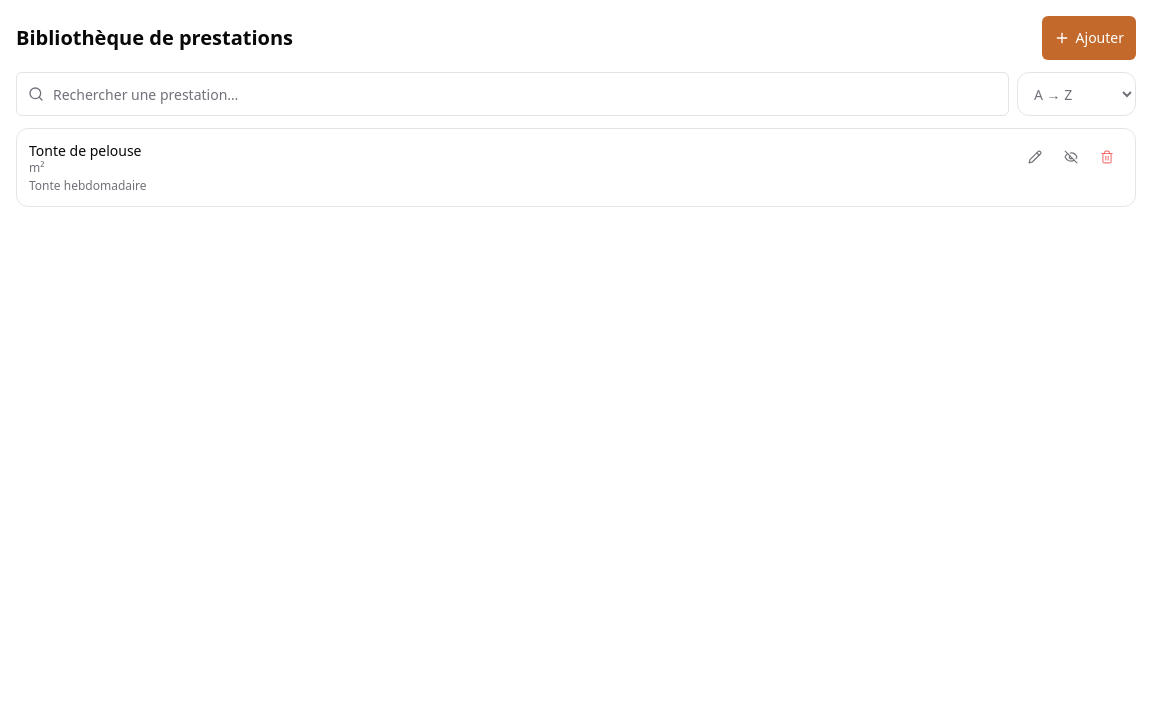
Test: ServicesPage — modal de modification › cliquer Modifier ouvre le formulaire avec les données de la prestation
This screenshot has width=1152, height=720.
Click the button named "Modifier": coordinates (1035, 157) [1019, 141, 1051, 173]
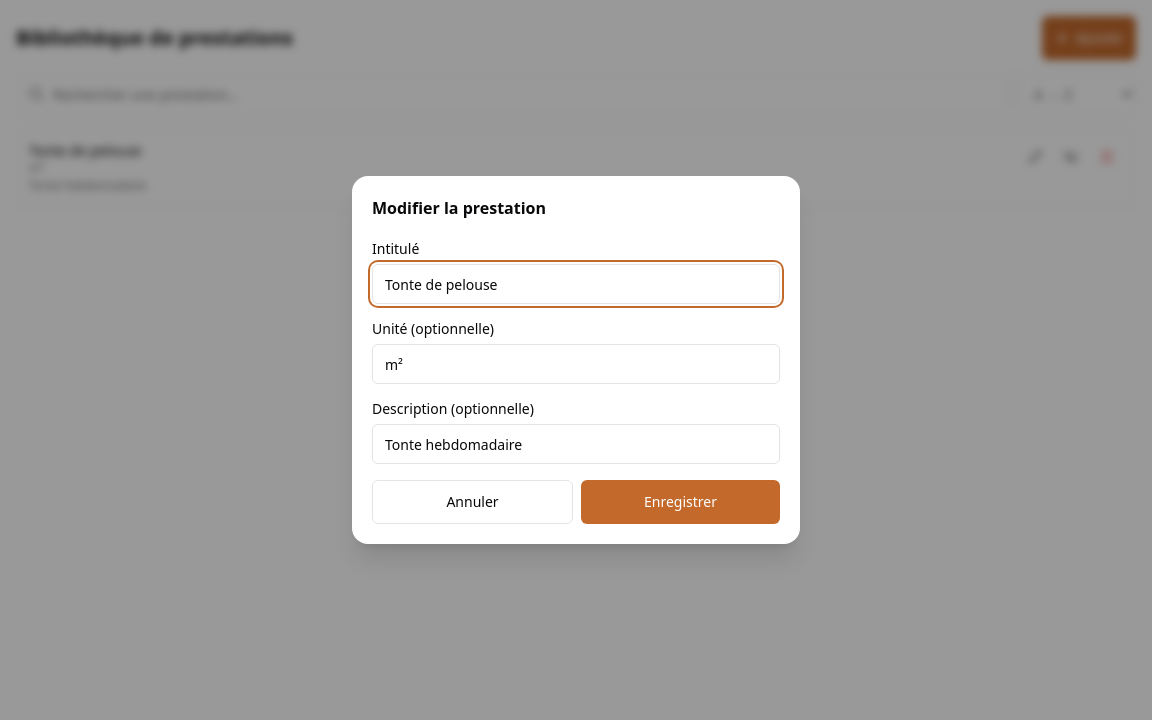
expect the heading "Modifier la prestation" is shown: met, box [372, 197, 546, 219]
expect the field showing "Tonte de pelouse" is shown: met, box [372, 264, 780, 304]
